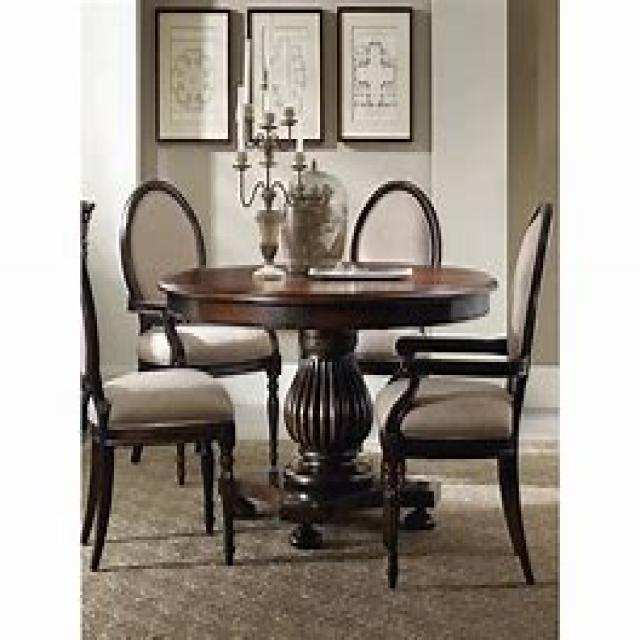chair: (373, 201, 553, 588), (78, 197, 235, 569), (119, 178, 281, 488)
table: (155, 258, 497, 550)
